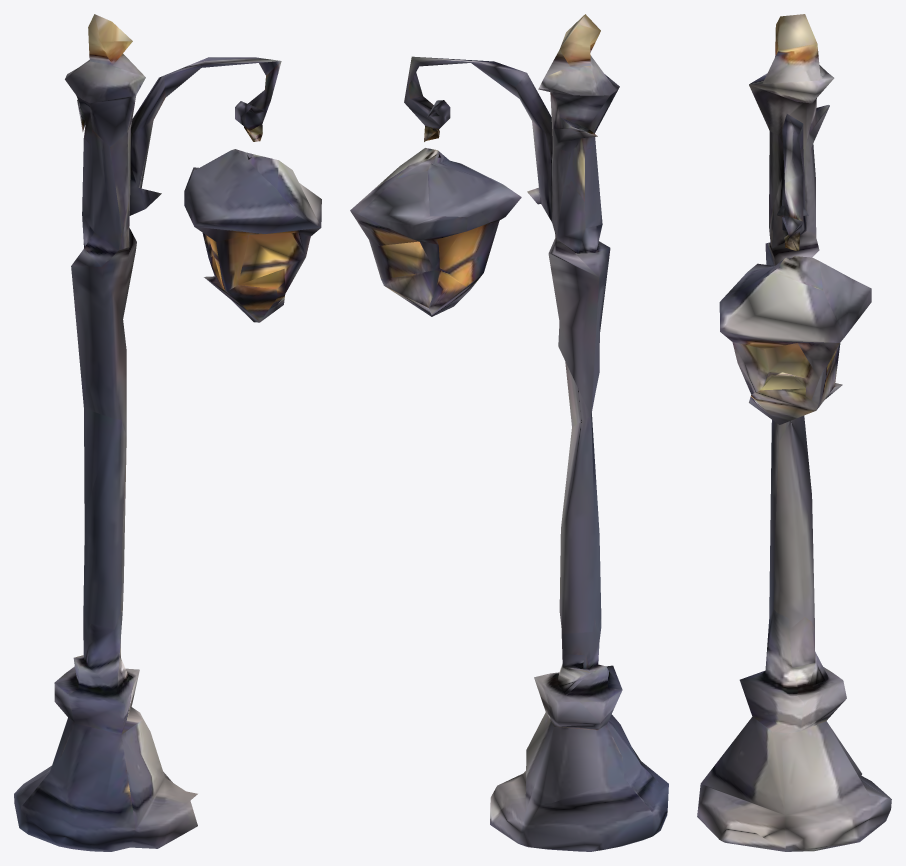
File: lantern_post.glb
The picture shows the model from 3 angles, left to right: view 1: azimuth 30°, elevation 25°; view 2: azimuth 150°, elevation 25°; view 3: azimuth 270°, elevation 25°; orthographic projection.
Visible parts, largest first — view 1: tripo_node_256cee81-3d9b-45bb-a9fc-9c19a01e98ce; view 2: tripo_node_256cee81-3d9b-45bb-a9fc-9c19a01e98ce; view 3: tripo_node_256cee81-3d9b-45bb-a9fc-9c19a01e98ce.
Boxes of the visible parts, <box> form: tripo_node_256cee81-3d9b-45bb-a9fc-9c19a01e98ce: <box>14,14,321,851</box>; tripo_node_256cee81-3d9b-45bb-a9fc-9c19a01e98ce: <box>350,14,668,851</box>; tripo_node_256cee81-3d9b-45bb-a9fc-9c19a01e98ce: <box>697,14,891,851</box>.
Bounding box in the file's own units: 0.3668 × 0.9737 × 0.2153.
1 material, 1 textured.
